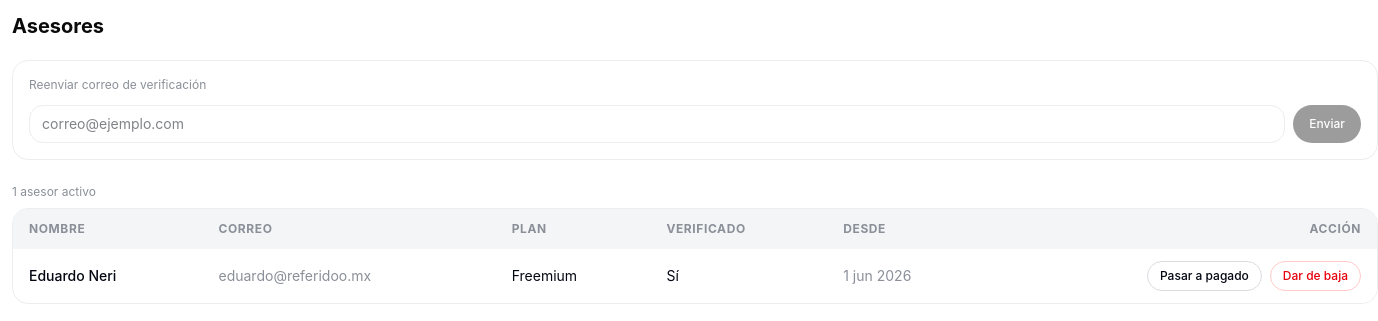
OwnerAsesoresPage › regala Pro mandando los días elegidos, sin navegar por el click de la fila
The image size is (1378, 321).
What coordinates should you click on to do the following:
click the button "Pasar a pagado"
I would click on:
 (1204, 276)
Its box is [1147,261,1262,291].
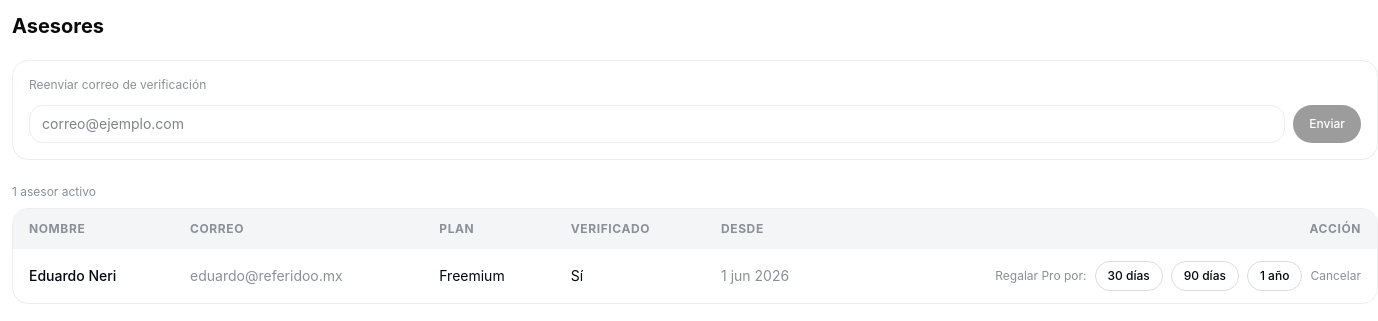
// El diálogo del upgrade ofrece vigencias, no un confirmar genérico.
What coordinates should you click on to do the following:
click the button "30 días"
I would click on:
 (1129, 276)
Its box is [1094,261,1163,291].
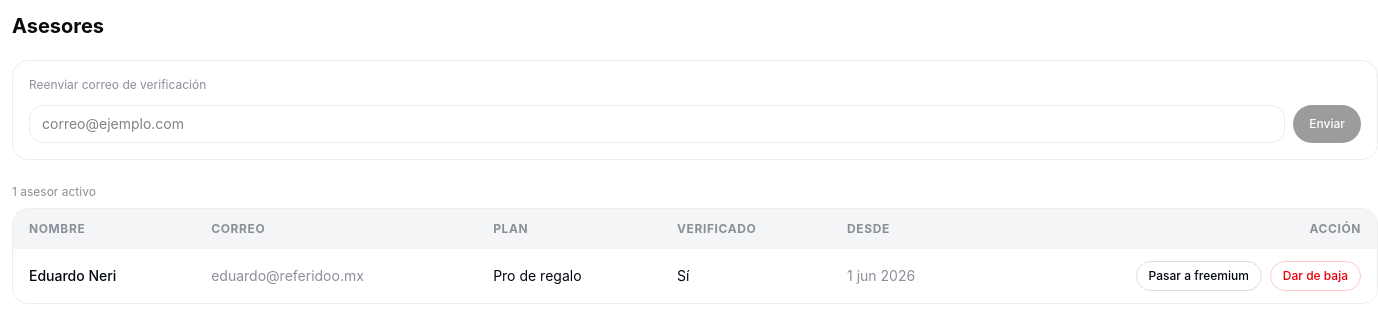
Result: the text "Pro de regalo" is shown at [477,249,661,303]
